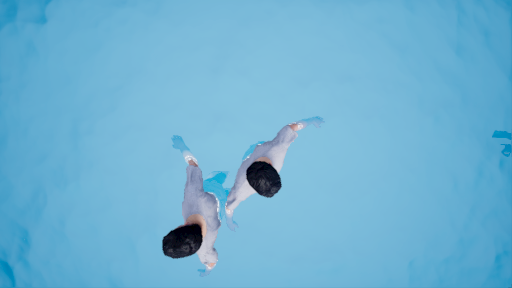person: (147, 111, 342, 274)
